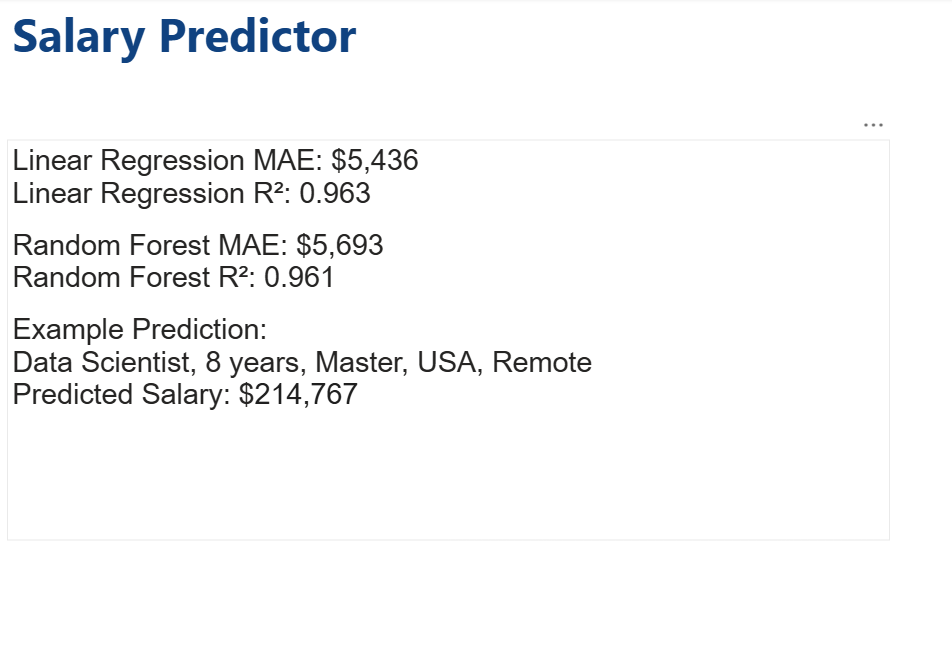

Layout of this report page (visuals, bound fields, positions):
{"tool":"powerbi","page":{"name":"Salary Predictor","canvas":[1280,720],"ordinal":2},"visuals":[{"type":"textbox","box":[9.6,0,501,77.9],"z":0},{"type":"textbox","box":[9.6,132.7,821.2,373.1],"z":1}]}

Visuals, with their boxes on the page's 1280x720 design canvas (x1, y1, x2, y2). These are canvas units, not pixel positions in the 952x670 screenshot, which may show the page scaled, cropped or inside an application window:
textbox: (left=10, top=0, right=511, bottom=78)
textbox: (left=10, top=133, right=831, bottom=506)
